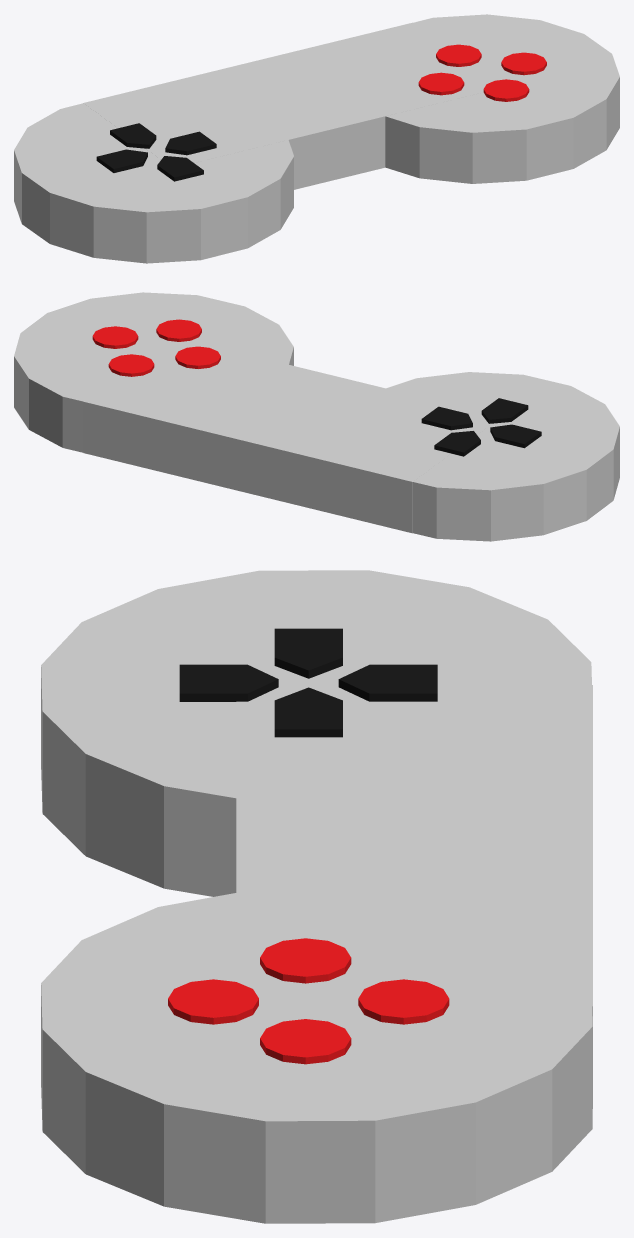
Rendered from gamepad.gltf.
3 renders of one model, top to bottom at view 1: azimuth 30°, elevation 25°; view 2: azimuth 150°, elevation 25°; view 3: azimuth 270°, elevation 25°, orthographic. The views are drawn at different scales.
Visible parts, largest first — view 1: gamepad_m, gamepad_l, gamepad_r, gamepad btn 2, gamepad btn2 2, gamepad btn2 1, gamepad btn 1; view 2: gamepad_m, gamepad_l, gamepad_r, gamepad btn 2, gamepad btn2 2, gamepad btn2 1, gamepad btn 1; view 3: gamepad_r, gamepad_m, gamepad_l, gamepad btn 1, gamepad btn2 2, gamepad btn2 1, gamepad btn 2.
Part boxes in pixels (x1=…): gamepad_m: x1=83, y1=22, x2=492, y2=189; gamepad_l: x1=14, y1=103, x2=293, y2=263; gamepad_r: x1=385, y1=14, x2=619, y2=183; gamepad btn 2: x1=96, y1=131, x2=216, y2=172; gamepad btn2 2: x1=418, y1=52, x2=546, y2=95; gamepad btn2 1: x1=436, y1=44, x2=529, y2=101; gamepad btn 1: x1=110, y1=123, x2=203, y2=181; gamepad_m: x1=83, y1=340, x2=491, y2=533; gamepad_l: x1=386, y1=372, x2=619, y2=541; gamepad_r: x1=14, y1=292, x2=293, y2=452; gamepad btn 2: x1=421, y1=406, x2=541, y2=448; gamepad btn2 2: x1=92, y1=326, x2=220, y2=368; gamepad btn2 1: x1=108, y1=319, x2=201, y2=376; gamepad btn 1: x1=434, y1=398, x2=528, y2=456; gamepad_r: x1=41, y1=893, x2=592, y2=1223; gamepad_m: x1=236, y1=685, x2=592, y2=1108; gamepad_l: x1=41, y1=570, x2=591, y2=896; gamepad btn 1: x1=179, y1=664, x2=437, y2=701; gamepad btn2 2: x1=260, y1=938, x2=351, y2=1064; gamepad btn2 1: x1=168, y1=979, x2=449, y2=1024; gamepad btn 2: x1=274, y1=628, x2=342, y2=737.
Bounding box in the file's own units: 0.5139 × 0.0482 × 0.2174.
